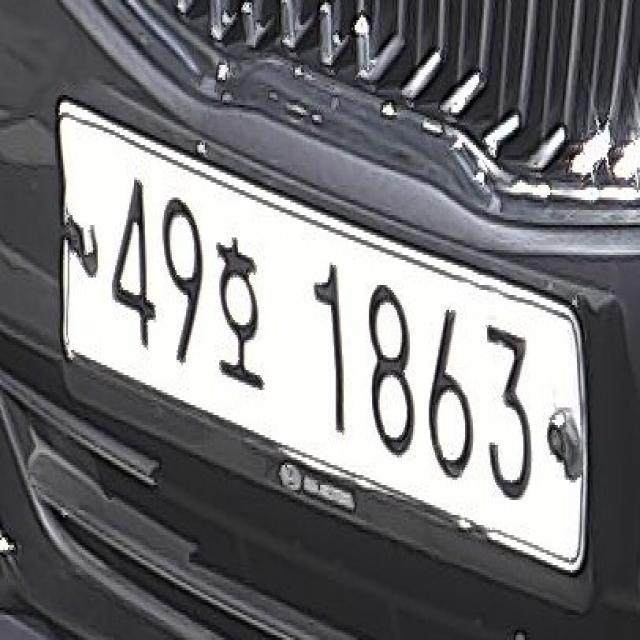1: (312, 255, 351, 454)
3: (482, 321, 537, 508)
4: (108, 175, 158, 359)
6: (426, 304, 476, 491)
8: (364, 276, 416, 472)
9: (161, 190, 206, 374)
ho: (212, 228, 269, 411)
license_plate: (52, 87, 600, 604)
